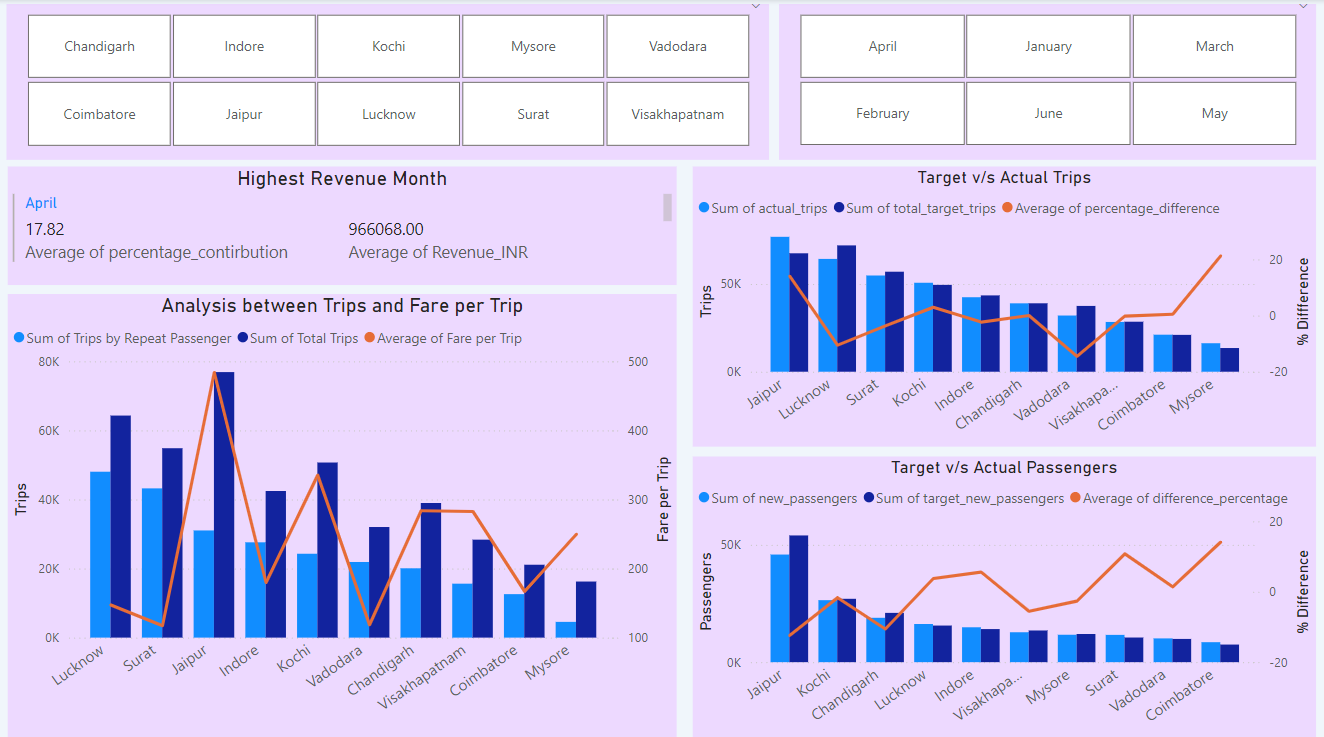

The dashboard page shown, as its layout file describes it:
{"tool":"powerbi","page":{"name":"Revenue & Targets","canvas":[1280,720],"ordinal":1},"visuals":[{"type":"slicer","fields":{"Values":["HC Q1.city_name"]},"box":[7.1,4.3,735.7,150],"z":0},{"type":"multiRowCard","title":"Highest Revenue Month","fields":{"Values":["HC Q5.highest_revenue_month","Avg(HC Q5.percentage_contirbution)","Avg(HC Q5.Revenue_INR)"]},"box":[8.6,161.4,645.7,114.3],"z":1000},{"type":"lineClusteredColumnComboChart","title":"Analysis between Trips and Fare per Trip","fields":{"Category":["HC Q1.city_name"],"Y2":["Avg(HC Q1.avg_fare_per_trip)"],"Y":["Sum(self Q5.Repeated)","Sum(HC Q1.total_trips)"]},"box":[8.6,284.3,645.7,428.6],"z":2000},{"type":"slicer","fields":{"Values":["HC Q2.month_name"]},"box":[752.9,4.3,518.6,150],"z":3000},{"type":"lineClusteredColumnComboChart","title":"Target v/s Actual Trips","fields":{"Category":["HC Q2.city_name"],"Y":["Sum(HC Q2.actual_trips)","Sum(HC Q2.total_target_trips)"],"Y2":["Avg(HC Q2.percentage_difference)"]},"box":[670,161.4,601.4,270],"z":4000},{"type":"lineClusteredColumnComboChart","title":"Target v/s Actual Passengers","fields":{"Y2":["Avg(self Q4.difference_percentage)"],"Category":["self Q4.city_name"],"Y":["Sum(self Q4.new_passengers)","Sum(self Q4.target_new_passengers)"]},"box":[670,441.4,601.4,271.4],"z":5000}]}

Visuals, with their boxes in screenshot pixels (x1, y1, x2, y2), scaled from the page's 1280x720 canvas onto the 1324x737 screenshot:
slicer - HC Q1.city_name: region(7, 4, 768, 158)
"Highest Revenue Month" multiRowCard: region(9, 165, 677, 282)
"Analysis between Trips and Fare per Trip" lineClusteredColumnComboChart: region(9, 291, 677, 730)
slicer - HC Q2.month_name: region(779, 4, 1315, 158)
"Target v/s Actual Trips" lineClusteredColumnComboChart: region(693, 165, 1315, 442)
"Target v/s Actual Passengers" lineClusteredColumnComboChart: region(693, 452, 1315, 730)
